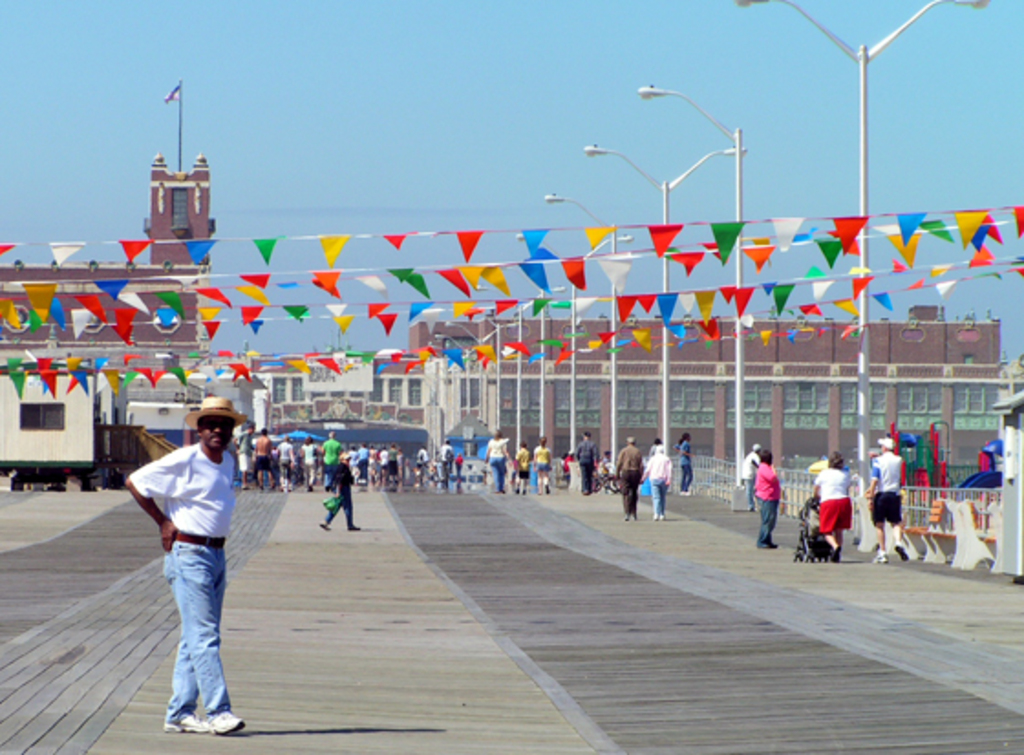Footwear: (163, 698, 207, 729), (205, 706, 243, 739), (889, 536, 909, 563), (342, 517, 362, 530), (876, 541, 885, 569), (320, 523, 327, 528)
